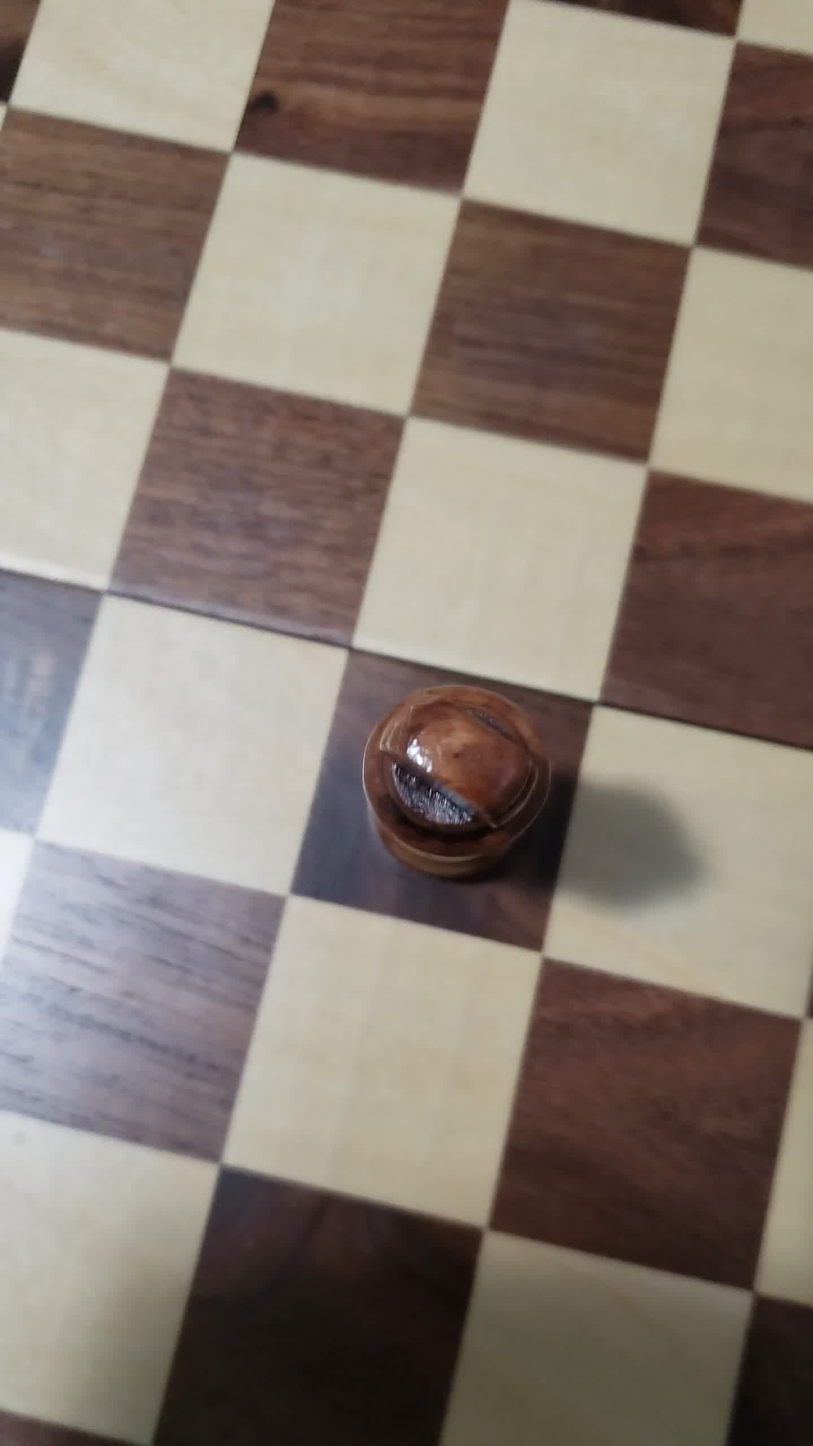black-king: (344, 653, 564, 924)
